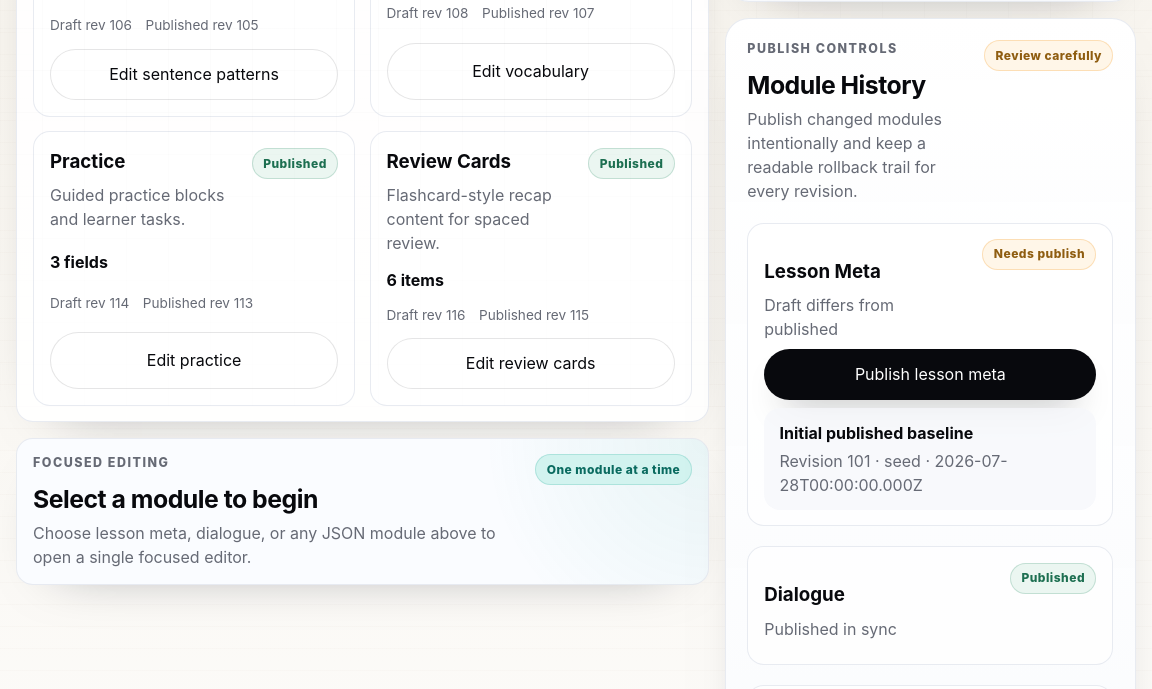
Test: AdminLessonEditorPage › publishes a changed module from the editor and refreshes module status/history
The width and height of the screenshot is (1152, 689).
(page scrolled)
Click the button "Publish lesson meta". click: (930, 374)
box: [764,349,1096,400]
(page scrolled)
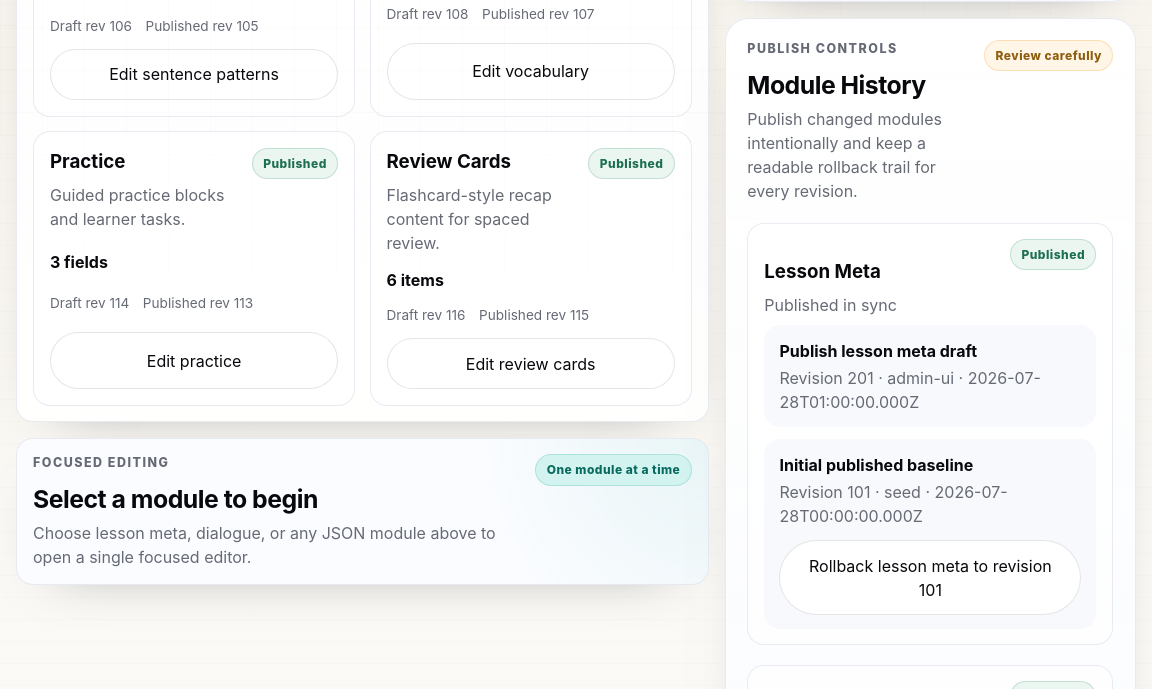
Result: the text "Publish lesson meta draft" is shown at [780,341,977,361]
